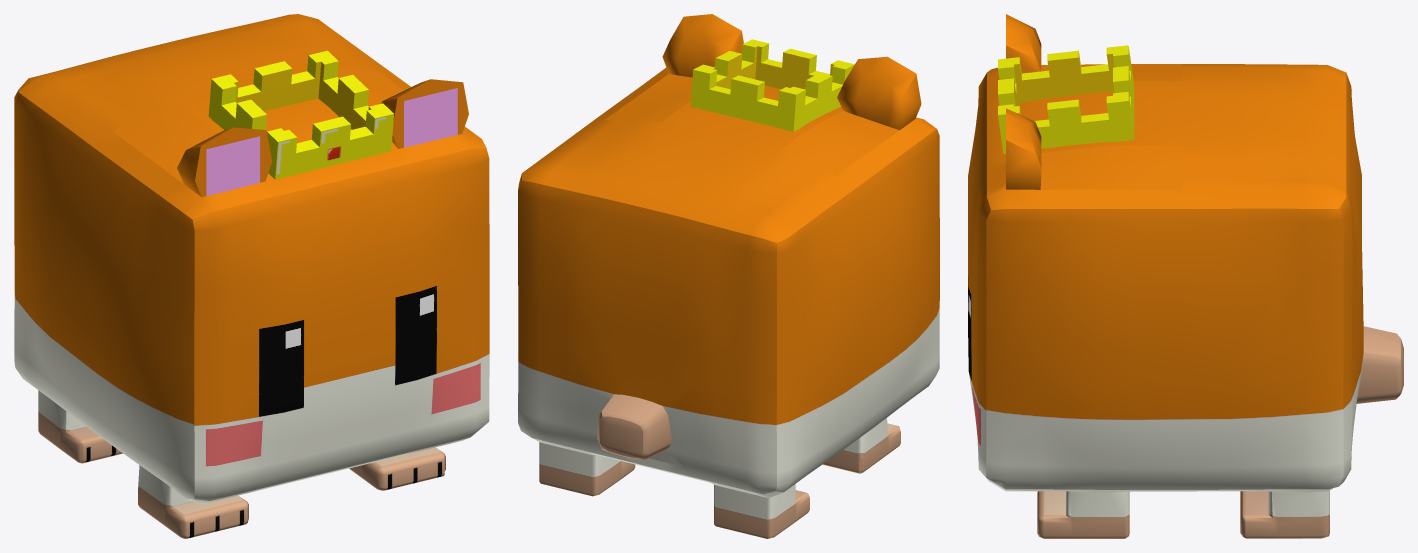
Rendered from KingIdle.fbx.
3 renders of one model, left to right at view 1: azimuth 30°, elevation 25°; view 2: azimuth 150°, elevation 25°; view 3: azimuth 270°, elevation 25°, orthographic. The views are drawn at different scales.
Visible parts, largest first — view 1: pCube11; view 2: pCube11; view 3: pCube11.
Boxes of the visible parts, x1=… form: pCube11: x1=14, y1=14, x2=489, y2=538; pCube11: x1=518, y1=14, x2=939, y2=538; pCube11: x1=968, y1=14, x2=1403, y2=538.
Size of the model in its own units: 4.23 by 5.01 by 4.81.
